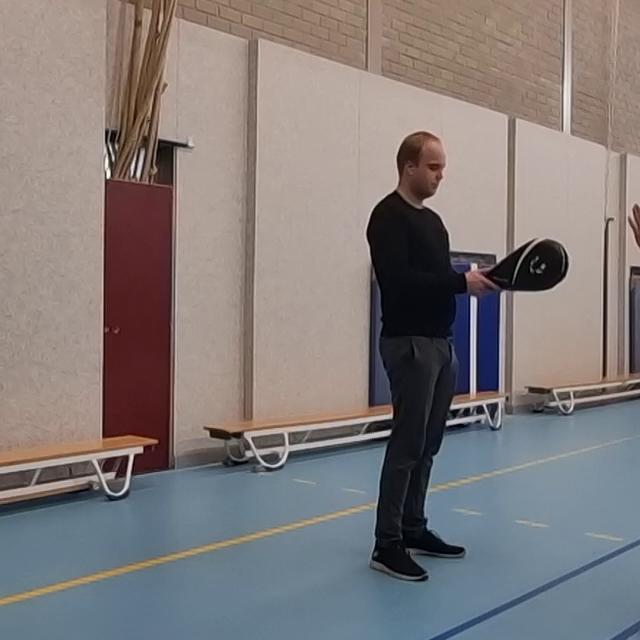paddle: (511, 235, 575, 292)
